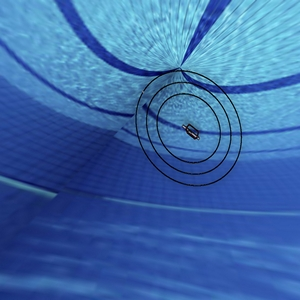circle: (105, 49, 255, 193)
submarine: (177, 113, 204, 149)
